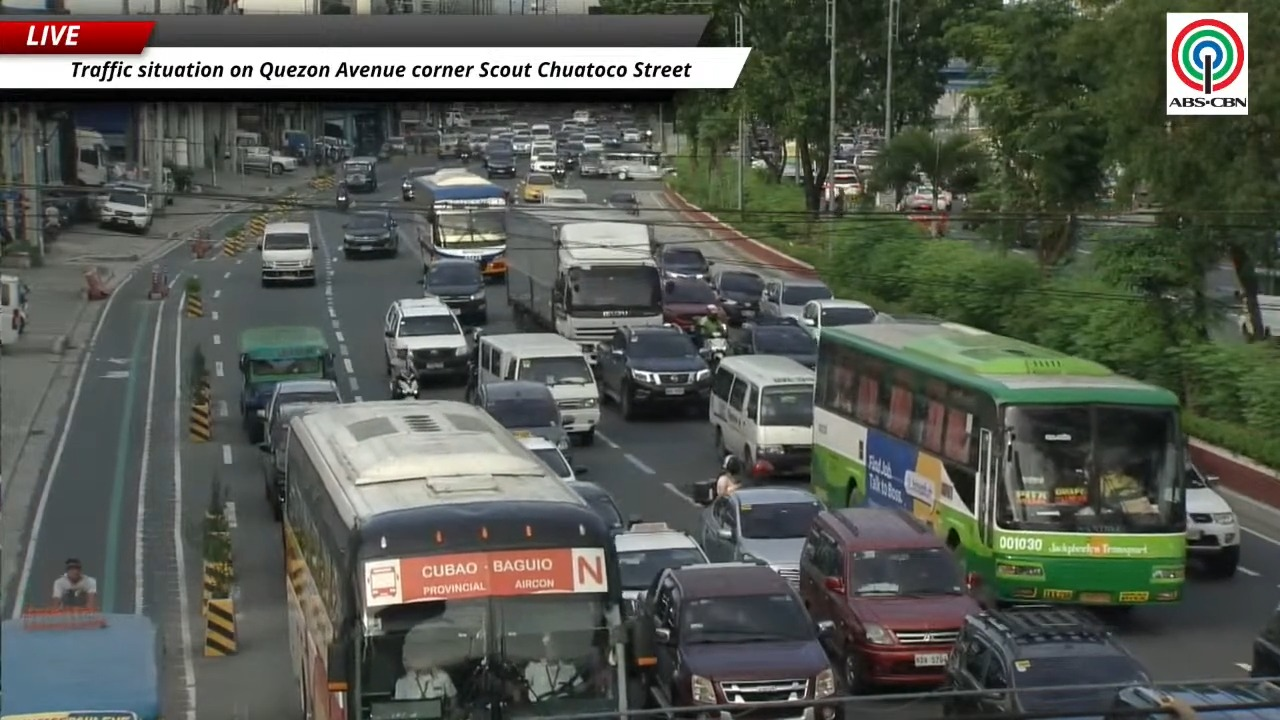bus: (283, 400, 627, 719), (811, 322, 1185, 607), (412, 172, 509, 276)
car: (799, 507, 981, 693), (630, 563, 840, 719), (943, 605, 1151, 717), (697, 485, 824, 585), (597, 327, 709, 419), (259, 402, 330, 520), (614, 522, 708, 608), (469, 380, 570, 451), (384, 297, 469, 379), (1104, 680, 1279, 719), (1185, 463, 1240, 577), (423, 257, 487, 324), (257, 378, 341, 427), (730, 323, 817, 368), (662, 278, 723, 330), (566, 480, 626, 531), (520, 435, 586, 481), (760, 278, 833, 318), (800, 298, 876, 336), (711, 270, 764, 324), (343, 210, 397, 258), (1250, 605, 1279, 677), (655, 245, 712, 280), (899, 185, 951, 210), (401, 166, 438, 200), (517, 173, 556, 203), (437, 136, 474, 161), (542, 188, 590, 206), (483, 139, 512, 168), (831, 168, 861, 196), (486, 151, 516, 178), (577, 151, 608, 177), (606, 191, 639, 214), (530, 150, 558, 173), (556, 143, 579, 170), (597, 126, 622, 148), (512, 130, 532, 156), (468, 133, 487, 157), (581, 134, 604, 152), (621, 127, 642, 142)
motorcycle: (700, 333, 728, 367), (390, 374, 418, 399), (336, 193, 350, 212)
truck: (506, 207, 662, 362), (0, 610, 161, 719), (75, 127, 109, 186), (239, 146, 298, 175), (281, 128, 313, 164)
